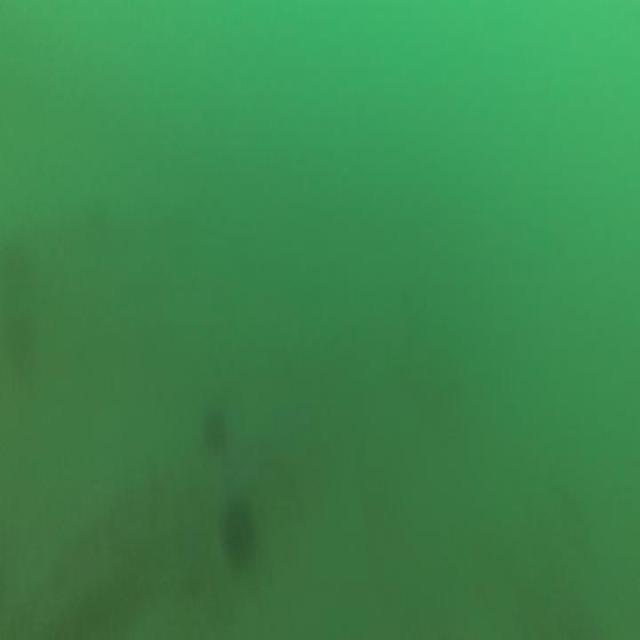echinus: (216, 492, 259, 576), (199, 403, 229, 461)
